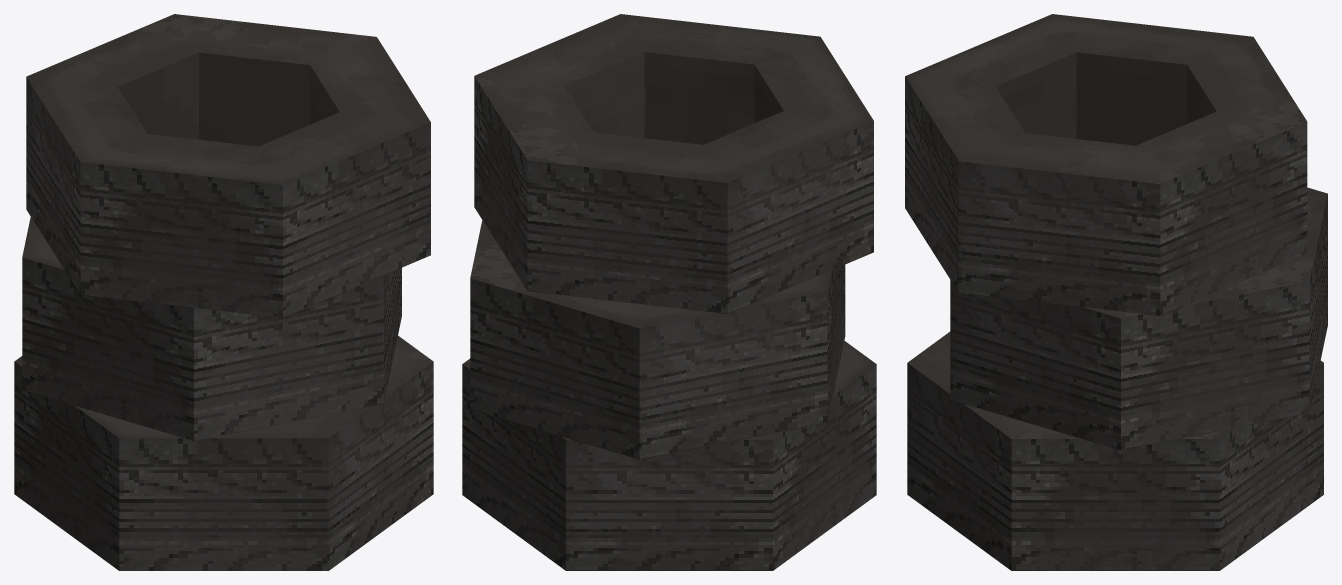
File: tires.glb
3 renders of one model, left to right at view 1: azimuth 30°, elevation 25°; view 2: azimuth 150°, elevation 25°; view 3: azimuth 270°, elevation 25°, orthographic.
Visible parts, largest first — view 1: Cylinder.002, Cylinder, Cylinder.001; view 2: Cylinder.002, Cylinder.001, Cylinder; view 3: Cylinder.002, Cylinder, Cylinder.001.
Part boxes in pixels (x1=…): Cylinder.002: x1=26, y1=14, x2=430, y2=317; Cylinder: x1=14, y1=335, x2=433, y2=570; Cylinder.001: x1=22, y1=216, x2=401, y2=440; Cylinder.002: x1=474, y1=14, x2=873, y2=313; Cylinder.001: x1=470, y1=220, x2=845, y2=459; Cylinder: x1=462, y1=341, x2=876, y2=570; Cylinder.002: x1=905, y1=14, x2=1307, y2=315; Cylinder: x1=907, y1=331, x2=1323, y2=570; Cylinder.001: x1=950, y1=187, x2=1327, y2=450.
Bounding box in the file's own units: 1.99 × 2.1 × 2.03.
Materials: 1 (1 with a texture image).
